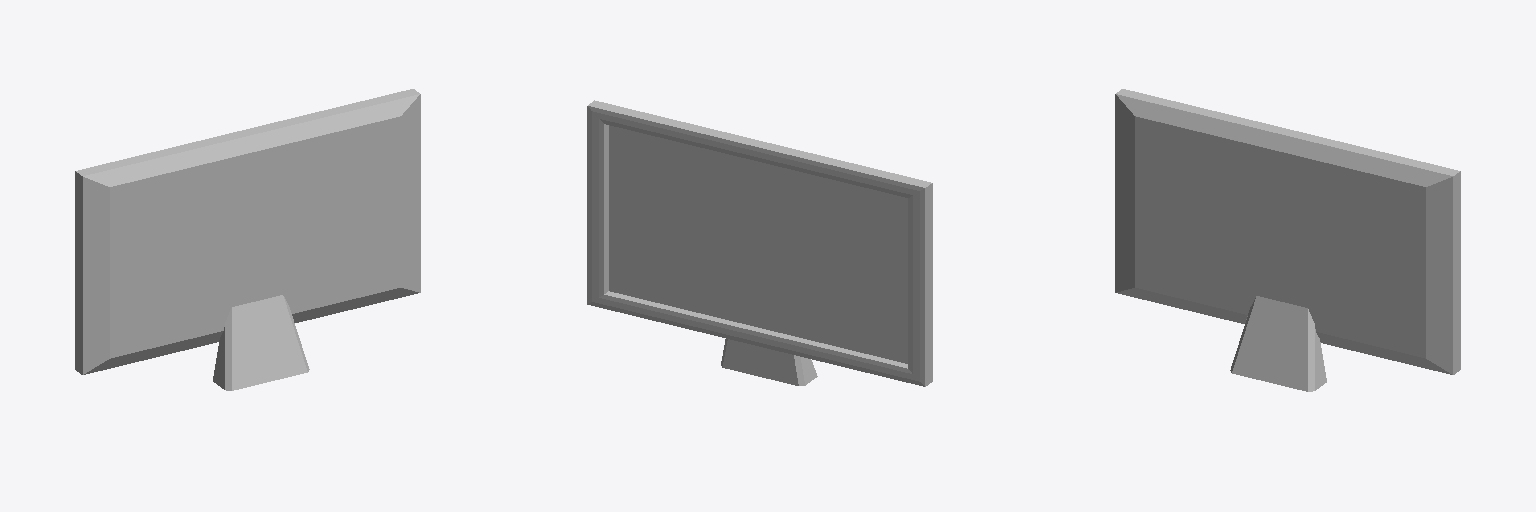
File: monitor.obj
The picture shows the model from 3 angles: view 1: azimuth 30°, elevation 25°; view 2: azimuth 150°, elevation 25°; view 3: azimuth 330°, elevation 25°; orthographic projection.
Parts seen in each view (by area): view 1: Cube.019_Cube.028; view 2: Cube.019_Cube.028; view 3: Cube.019_Cube.028.
Boxes of the visible parts, x1,y1,x2,y2 form: Cube.019_Cube.028: [75, 89, 420, 390]; Cube.019_Cube.028: [587, 100, 932, 386]; Cube.019_Cube.028: [1115, 89, 1460, 391].
Bounding box in the file's own units: 0.6 × 0.3991 × 0.0731.